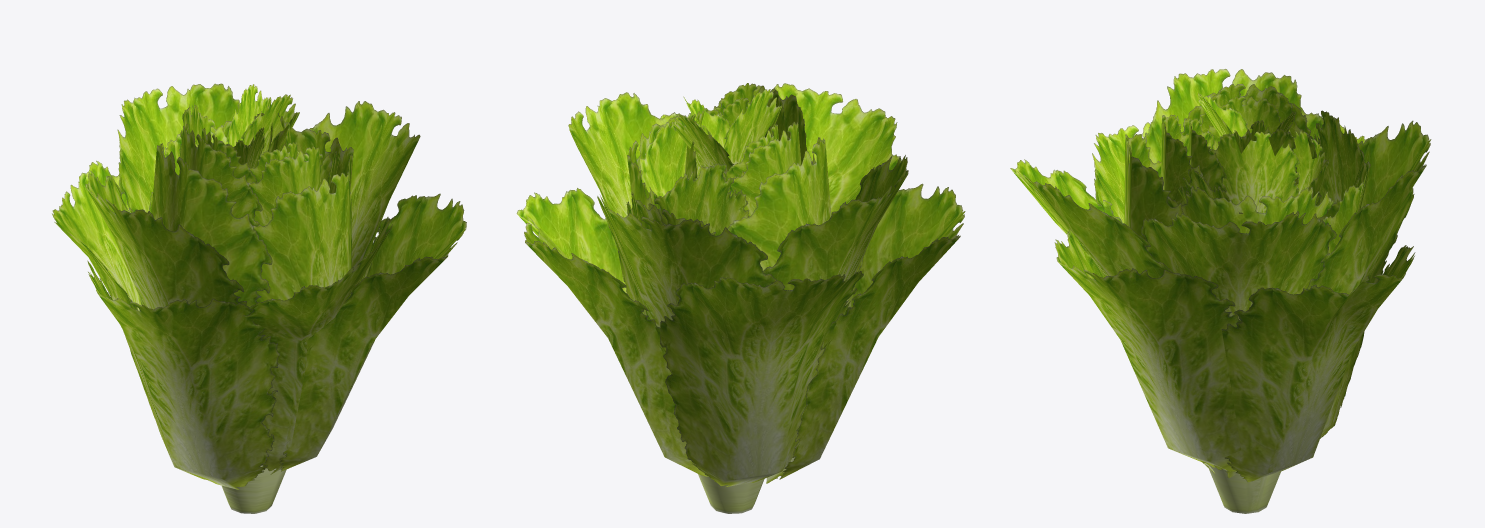
The model's file is Alfaceb.fbx.
3 views of the same model, side by side, from view 1: azimuth 30°, elevation 25°; view 2: azimuth 150°, elevation 25°; view 3: azimuth 270°, elevation 25° (orthographic). The views are drawn at different scales.
Visible parts, largest first — view 1: AlfaceBLOD0; view 2: AlfaceBLOD0; view 3: AlfaceBLOD0.
Part boxes in pixels (x1=…): AlfaceBLOD0: x1=52, y1=83, x2=466, y2=513; AlfaceBLOD0: x1=516, y1=83, x2=965, y2=513; AlfaceBLOD0: x1=1010, y1=69, x2=1431, y2=513.
Size of what is drawn, in the model's own units: 93.93 by 94.83 by 93.59.
1 material, 1 textured.
